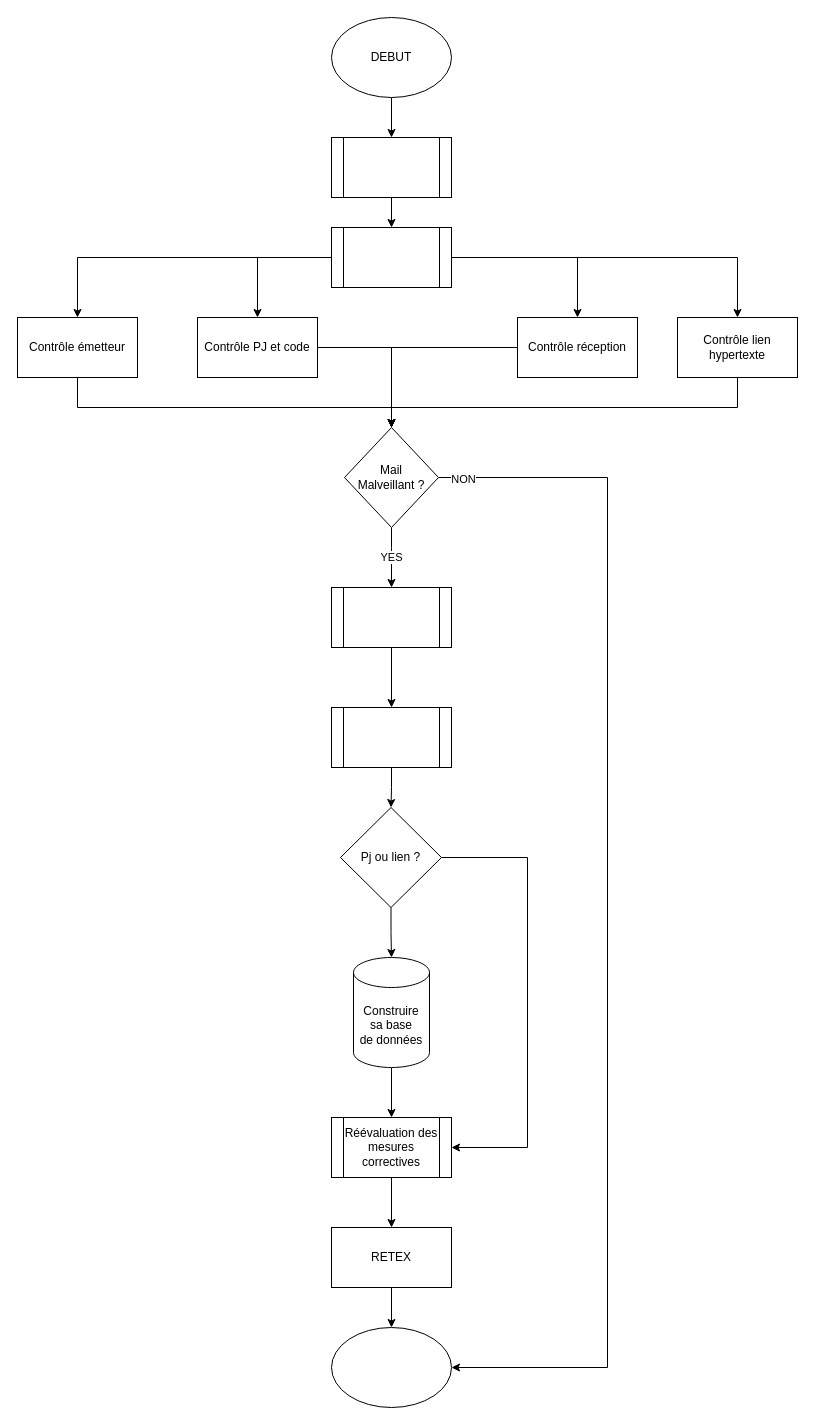
The diagram is 815 pixels wide and 1425 high, and some of its shapes have lost their labels. Each missing label, with the centre of its shape:
Actions correctives rapides: the point at 391,617
Analyser le code du mail: the point at 391,257
Avoir le fichier original au format msg ou eml: the point at 391,167
FIN: the point at 391,1367
Identifier d'autres victimes: the point at 391,737
